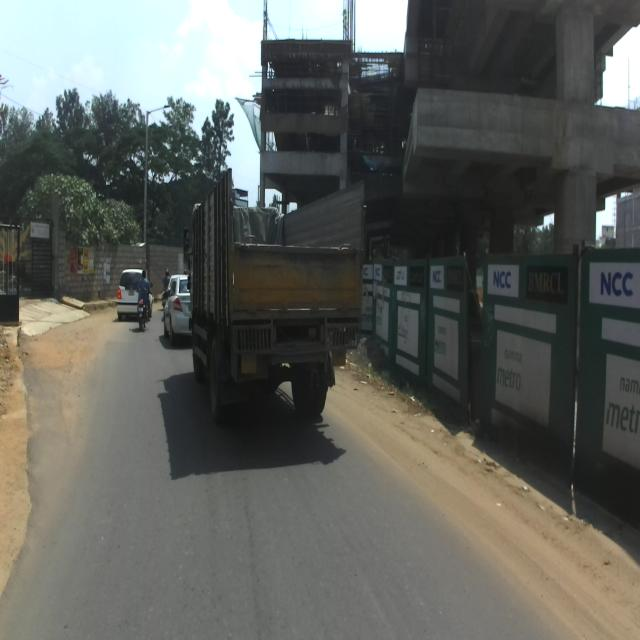truck ahead at: (190, 178, 368, 420)
